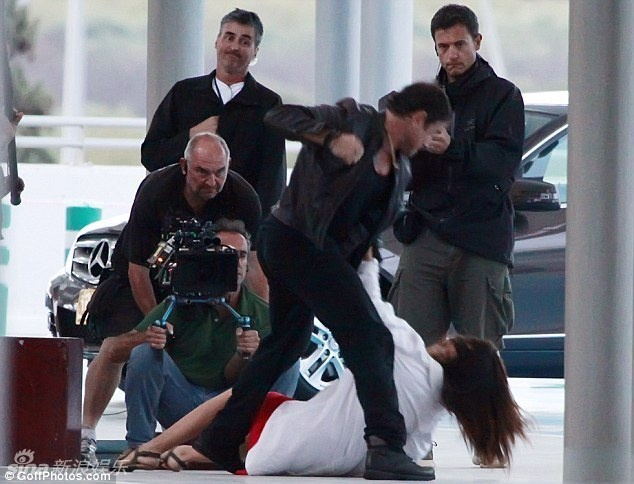falling: (102, 230, 539, 463)
